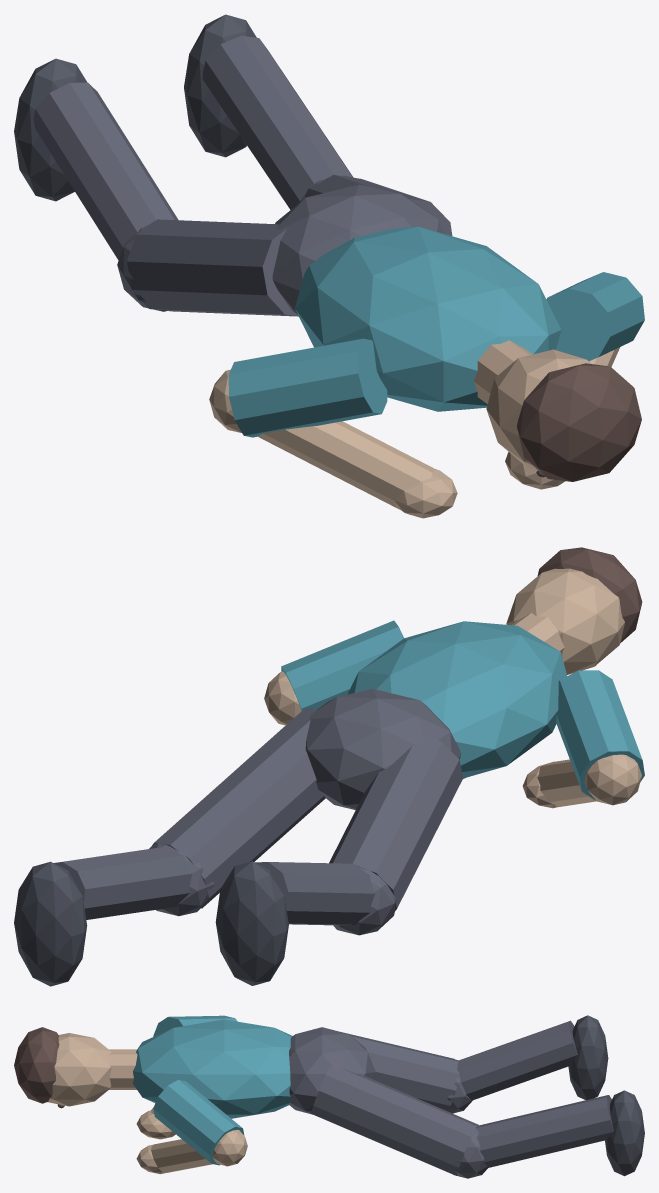
The picture shows the model from 3 angles, top to bottom: view 1: azimuth 30°, elevation 25°; view 2: azimuth 150°, elevation 25°; view 3: azimuth 270°, elevation 25°; orthographic projection. The views are drawn at different scales.
Parts seen in each view (by area): view 1: world; view 2: world; view 3: world.
Boxes of the visible parts, <box> form: world: <box>14,14,644,518</box>; world: <box>14,547,644,986</box>; world: <box>14,1015,644,1178</box>.
Bounding box in the file's own units: 0.93 × 0.435 × 2.
